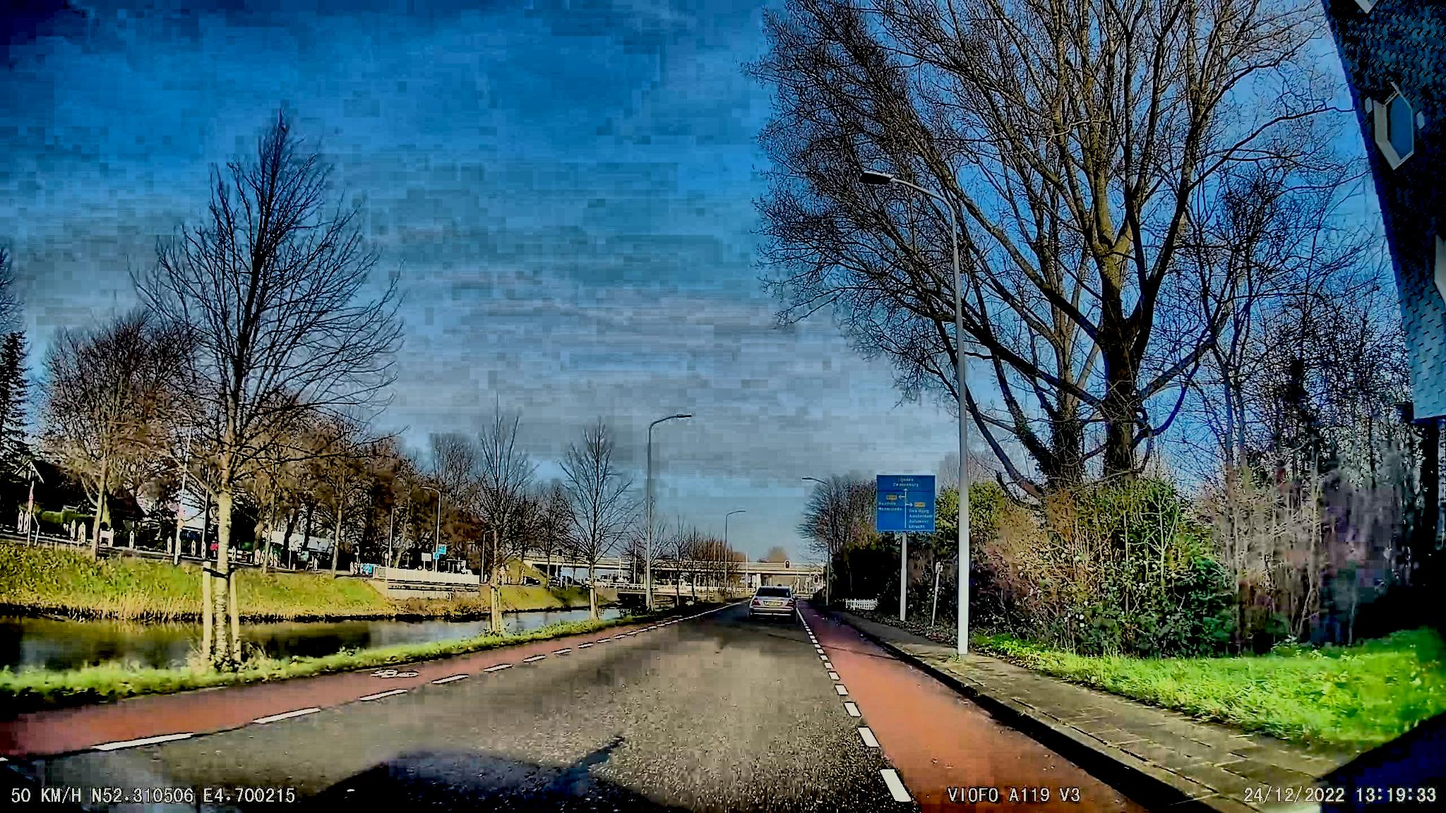Roads: (0, 605, 1163, 813)
